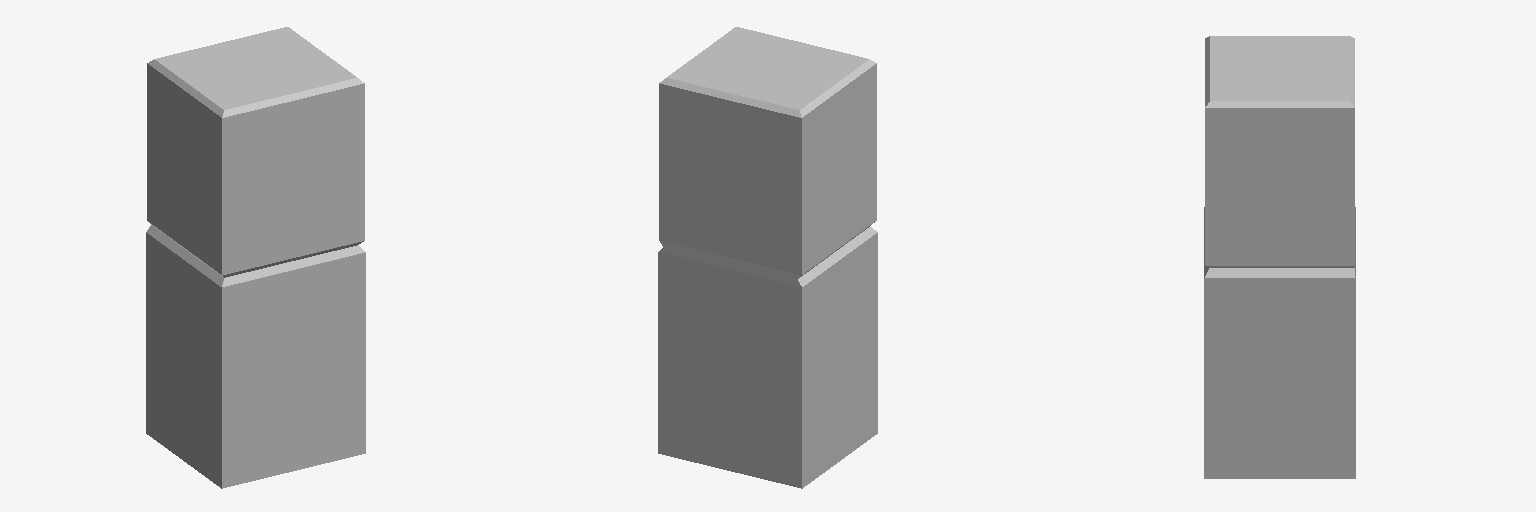
File: washerdryer.obj
The picture shows the model from 3 angles: view 1: azimuth 30°, elevation 25°; view 2: azimuth 150°, elevation 25°; view 3: azimuth 270°, elevation 25°; orthographic projection.
Visible parts, largest first — view 1: br_dryer; view 2: br_dryer; view 3: br_dryer.
Part boxes in pixels (left/top/right/bottom): br_dryer: left=146, top=27, right=365, bottom=488; br_dryer: left=658, top=27, right=877, bottom=488; br_dryer: left=1204, top=36, right=1355, bottom=478.
Bounding box in the file's own units: 37.84 × 94.16 × 34.34.